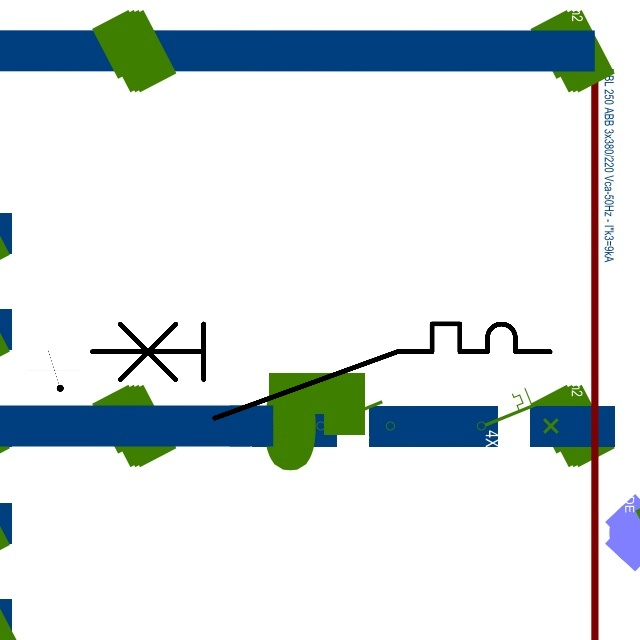interruptor_termomagnetico: (80, 312, 561, 430)
